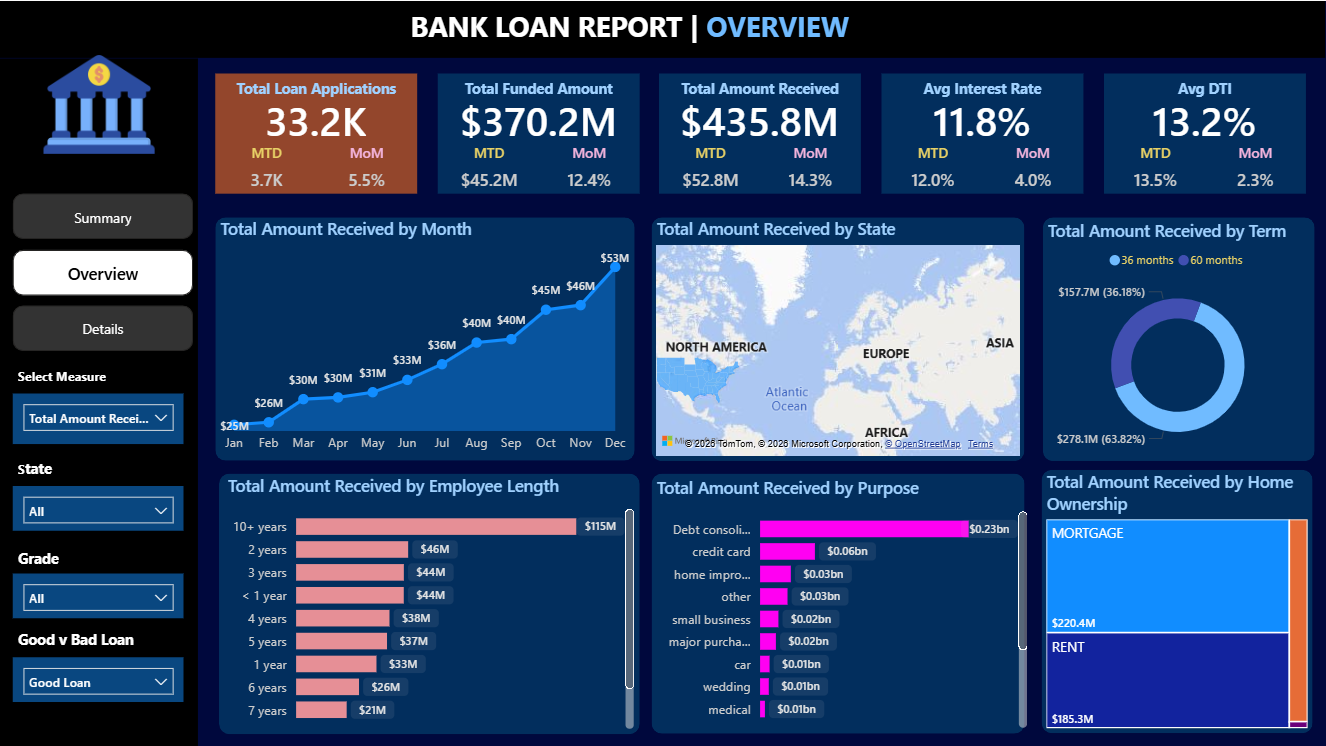

The page's visual inventory and layout, read from the dashboard file:
{"tool":"powerbi","page":{"name":"Overview","canvas":[1280,720],"ordinal":1},"visuals":[{"type":"shape","box":[208.4,70.4,194.9,116.4],"z":0,"group":"g1"},{"type":"shape","box":[422.9,70.4,194.9,116.4],"z":0,"group":"g2"},{"type":"shape","box":[637.4,70.4,194.9,116.4],"z":0,"group":"g3"},{"type":"shape","box":[851.9,70.4,194.9,116.4],"z":0,"group":"g4"},{"type":"shape","box":[1066.4,70.4,194.9,116.4],"z":0,"group":"g5"},{"type":"shape","box":[208.4,208.4,405,235],"z":0},{"type":"shape","box":[0,55.5,192.2,664.5],"z":1000},{"type":"cardVisual","fields":{"Data":["bank_loan_data.Total Loan Applications"]},"box":[208.4,89.3,194.9,48.7],"z":1000,"group":"g1"},{"type":"cardVisual","fields":{"Data":["bank_loan_data.Total Funded Amount"]},"box":[422.9,89.3,194.9,48.7],"z":1000,"group":"g2"},{"type":"cardVisual","fields":{"Data":["bank_loan_data.Total Amount Received"]},"box":[637.4,89.3,194.9,48.7],"z":1000,"group":"g3"},{"type":"cardVisual","fields":{"Data":["bank_loan_data.Avg Interest Rate"]},"box":[851.9,89.3,194.9,48.7],"z":1000,"group":"g4"},{"type":"cardVisual","fields":{"Data":["bank_loan_data.Avg DTI"]},"box":[1066.4,89.3,194.9,48.7],"z":1000,"group":"g5"},{"type":"shape","box":[0,0,1280.3,54.9],"z":2000},{"type":"textbox","box":[208.4,70.4,194.9,28.4],"z":2000,"group":"g1"},{"type":"textbox","box":[422.9,70.4,194.9,28.4],"z":2000,"group":"g2"},{"type":"textbox","box":[637.4,70.4,194.9,28.4],"z":2000,"group":"g3"},{"type":"textbox","box":[851.9,70.4,194.9,28.4],"z":2000,"group":"g4"},{"type":"textbox","box":[1066.4,70.4,194.9,28.4],"z":2000,"group":"g5"},{"type":"textbox","box":[392.5,1.4,494,51.4],"z":3000},{"type":"cardVisual","title":"MTD","fields":{"Data":["bank_loan_data.MTD Loan Applications"]},"box":[222.7,137.6,70.4,48.7],"z":3000,"group":"g1"},{"type":"cardVisual","title":"MTD","fields":{"Data":["bank_loan_data.MTD Funded Amount"]},"box":[437.2,137.6,70.4,48.7],"z":3000,"group":"g2"},{"type":"cardVisual","title":"MTD","fields":{"Data":["bank_loan_data.MTD Amount Received"]},"box":[651.7,137.6,70.4,48.7],"z":3000,"group":"g3"},{"type":"cardVisual","title":"MTD","fields":{"Data":["bank_loan_data.MTD Avg Int Rate"]},"box":[866.2,137.6,70.4,48.7],"z":3000,"group":"g4"},{"type":"cardVisual","title":"MTD","fields":{"Data":["bank_loan_data.MTD Avg DTI"]},"box":[1080.7,137.6,70.4,48.7],"z":3000,"group":"g5"},{"type":"group","id":"g1","title":"Group 1","box":[208.4,70.4,194.9,116.4],"z":4000},{"type":"cardVisual","title":"MoM","fields":{"Data":["bank_loan_data.Mom Loan Applications"]},"box":[318.8,137.6,70.4,48.7],"z":4000,"group":"g1"},{"type":"cardVisual","title":"MoM","fields":{"Data":["bank_loan_data.Mom Total Funded Amount"]},"box":[533.3,137.6,70.4,48.7],"z":4000,"group":"g2"},{"type":"cardVisual","title":"MoM","fields":{"Data":["bank_loan_data.MoM Total Amount Received"]},"box":[747.8,137.6,70.4,48.7],"z":4000,"group":"g3"},{"type":"cardVisual","title":"MoM","fields":{"Data":["bank_loan_data.MoM Avg Int Rate"]},"box":[962.3,137.6,70.4,48.7],"z":4000,"group":"g4"},{"type":"cardVisual","title":"MoM","fields":{"Data":["bank_loan_data.MoM Avg DTI"]},"box":[1176.8,137.6,70.4,48.7],"z":4000,"group":"g5"},{"type":"group","id":"g2","title":"Group 1","box":[422.9,70.4,194.9,116.4],"z":5000},{"type":"group","id":"g3","title":"Group 1","box":[637.4,70.4,194.9,116.4],"z":6000},{"type":"group","id":"g4","title":"Group 1","box":[851.9,70.4,194.9,116.4],"z":7000},{"type":"group","id":"g5","title":"Group 1","box":[1066.4,70.4,194.9,116.4],"z":8000},{"type":"slicer","fields":{"Values":["bank_loan_data.address_state"]},"box":[13.5,468.3,165.1,43.3],"z":9000},{"type":"textbox","box":[13.5,437.1,73.1,31.1],"z":10000},{"type":"slicer","fields":{"Values":["bank_loan_data.grade"]},"box":[13.5,552.2,165.1,43.3],"z":11000},{"type":"textbox","box":[13.5,523.7,73.1,28.4],"z":12000},{"type":"slicer","fields":{"Values":["bank_loan_data.Good v Bad Loan"]},"box":[13.5,633.4,165.1,43.3],"z":13000},{"type":"textbox","box":[13.6,602.3,148.3,31.8],"z":14000},{"type":"areaChart","fields":{"Y":["bank_loan_data.Total Amount Received"],"Category":["Date Table.Month"]},"box":[208.4,208.4,404.7,235.5],"z":15000},{"type":"slicer","fields":{"Values":["Select Measure.Select Measure"]},"box":[13.5,378.9,165.1,48.7],"z":16000},{"type":"textbox","box":[13.5,347.8,129.9,31.1],"z":17000},{"type":"shape","box":[629.3,208.4,360,235.5],"z":18000},{"type":"filledMap","fields":{"X":["bank_loan_data.Total Amount Received"],"Category":["bank_loan_data.address_state"]},"box":[629.3,208.4,360,235.5],"z":19000},{"type":"shape","box":[1006.9,208.4,262.6,235.5],"z":20000},{"type":"donutChart","fields":{"Y":["bank_loan_data.Total Amount Received"],"Category":["bank_loan_data.term"]},"box":[1006.9,209.8,261.2,234.1],"z":21000},{"type":"shape","box":[212.5,456.1,406,251.7],"z":22000},{"type":"shape","box":[629.6,455.5,360.2,251.2],"z":23000},{"type":"barChart","fields":{"Y":["bank_loan_data.Total Amount Received"],"Category":["bank_loan_data.emp_length"]},"box":[216.5,456.1,401.9,251.7],"z":24000},{"type":"shape","box":[1006.4,452.5,261.8,254.2],"z":25000},{"type":"barChart","fields":{"Y":["bank_loan_data.Total Amount Received"],"Category":["bank_loan_data.purpose"]},"box":[629.6,458.5,367.7,248.2],"z":26000},{"type":"treemap","fields":{"Values":["bank_loan_data.Total Amount Received"],"Group":["bank_loan_data.home_ownership"]},"box":[1006.4,452.5,261.8,254.2],"z":27000},{"type":"pageNavigator","box":[13.5,185.4,174.6,154.3],"z":28000},{"type":"image","box":[33.3,42.4,125.6,115],"z":29000}]}

Visuals, with their boxes in screenshot pixels (x1, y1, x2, y2), scaled from the page's 1280x720 canvas onto the 1326x746 screenshot:
shape: bbox(216, 73, 418, 194)
shape: bbox(438, 73, 640, 194)
shape: bbox(660, 73, 862, 194)
shape: bbox(883, 73, 1084, 194)
shape: bbox(1105, 73, 1307, 194)
shape: bbox(216, 216, 635, 459)
shape: bbox(0, 58, 199, 745)
cardVisual - bank_loan_data.Total Loan Applications: bbox(216, 93, 418, 143)
cardVisual - bank_loan_data.Total Funded Amount: bbox(438, 93, 640, 143)
cardVisual - bank_loan_data.Total Amount Received: bbox(660, 93, 862, 143)
cardVisual - bank_loan_data.Avg Interest Rate: bbox(883, 93, 1084, 143)
cardVisual - bank_loan_data.Avg DTI: bbox(1105, 93, 1307, 143)
shape: bbox(0, 0, 1325, 57)
textbox: bbox(216, 73, 418, 102)
textbox: bbox(438, 73, 640, 102)
textbox: bbox(660, 73, 862, 102)
textbox: bbox(883, 73, 1084, 102)
textbox: bbox(1105, 73, 1307, 102)
textbox: bbox(407, 1, 918, 55)
"MTD" cardVisual: bbox(231, 143, 304, 193)
"MTD" cardVisual: bbox(453, 143, 526, 193)
"MTD" cardVisual: bbox(675, 143, 748, 193)
"MTD" cardVisual: bbox(897, 143, 970, 193)
"MTD" cardVisual: bbox(1120, 143, 1192, 193)
"Group 1" group: bbox(216, 73, 418, 194)
"MoM" cardVisual: bbox(330, 143, 403, 193)
"MoM" cardVisual: bbox(552, 143, 625, 193)
"MoM" cardVisual: bbox(775, 143, 848, 193)
"MoM" cardVisual: bbox(997, 143, 1070, 193)
"MoM" cardVisual: bbox(1219, 143, 1292, 193)
"Group 1" group: bbox(438, 73, 640, 194)
"Group 1" group: bbox(660, 73, 862, 194)
"Group 1" group: bbox(883, 73, 1084, 194)
"Group 1" group: bbox(1105, 73, 1307, 194)
slicer - bank_loan_data.address_state: bbox(14, 485, 185, 530)
textbox: bbox(14, 453, 90, 485)
slicer - bank_loan_data.grade: bbox(14, 572, 185, 617)
textbox: bbox(14, 543, 90, 572)
slicer - bank_loan_data.Good v Bad Loan: bbox(14, 656, 185, 701)
textbox: bbox(14, 624, 168, 657)
areaChart - bank_loan_data.Total Amount Received x Date Table.Month: bbox(216, 216, 635, 460)
slicer - Select Measure.Select Measure: bbox(14, 393, 185, 443)
textbox: bbox(14, 360, 149, 393)
shape: bbox(652, 216, 1025, 460)
filledMap - bank_loan_data.Total Amount Received x bank_loan_data.address_state: bbox(652, 216, 1025, 460)
shape: bbox(1043, 216, 1315, 460)
donutChart - bank_loan_data.Total Amount Received x bank_loan_data.term: bbox(1043, 217, 1314, 460)
shape: bbox(220, 473, 641, 733)
shape: bbox(652, 472, 1025, 732)
barChart - bank_loan_data.Total Amount Received x bank_loan_data.emp_length: bbox(224, 473, 641, 733)
shape: bbox(1043, 469, 1314, 732)
barChart - bank_loan_data.Total Amount Received x bank_loan_data.purpose: bbox(652, 475, 1033, 732)
treemap - bank_loan_data.Total Amount Received x bank_loan_data.home_ownership: bbox(1043, 469, 1314, 732)
pageNavigator: bbox(14, 192, 195, 352)
image: bbox(34, 44, 165, 163)
